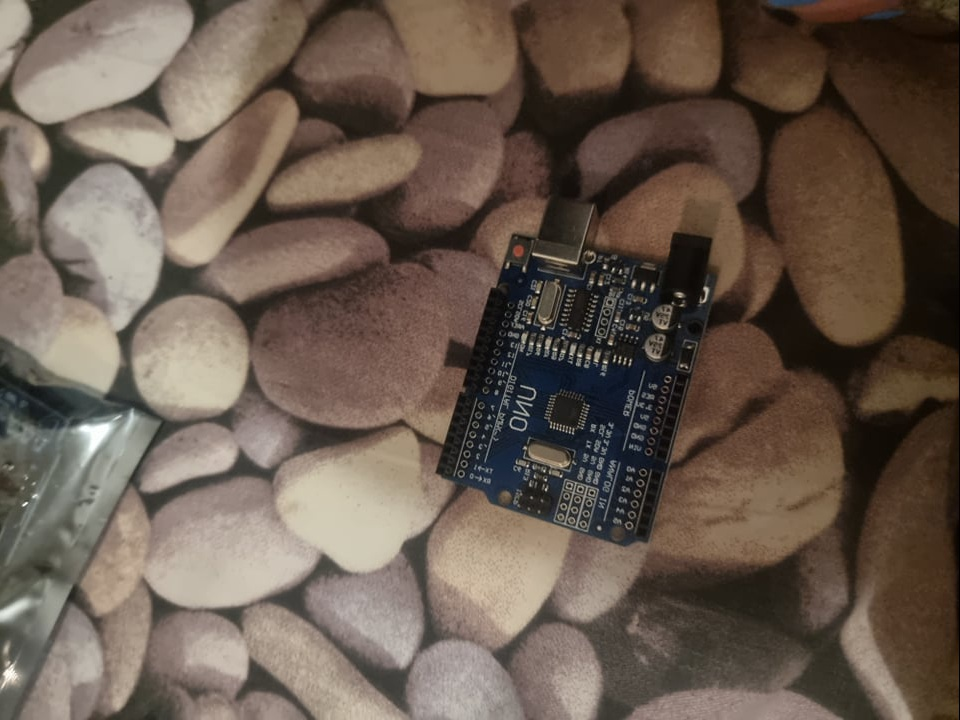UNO R3: (434, 194, 722, 546)
